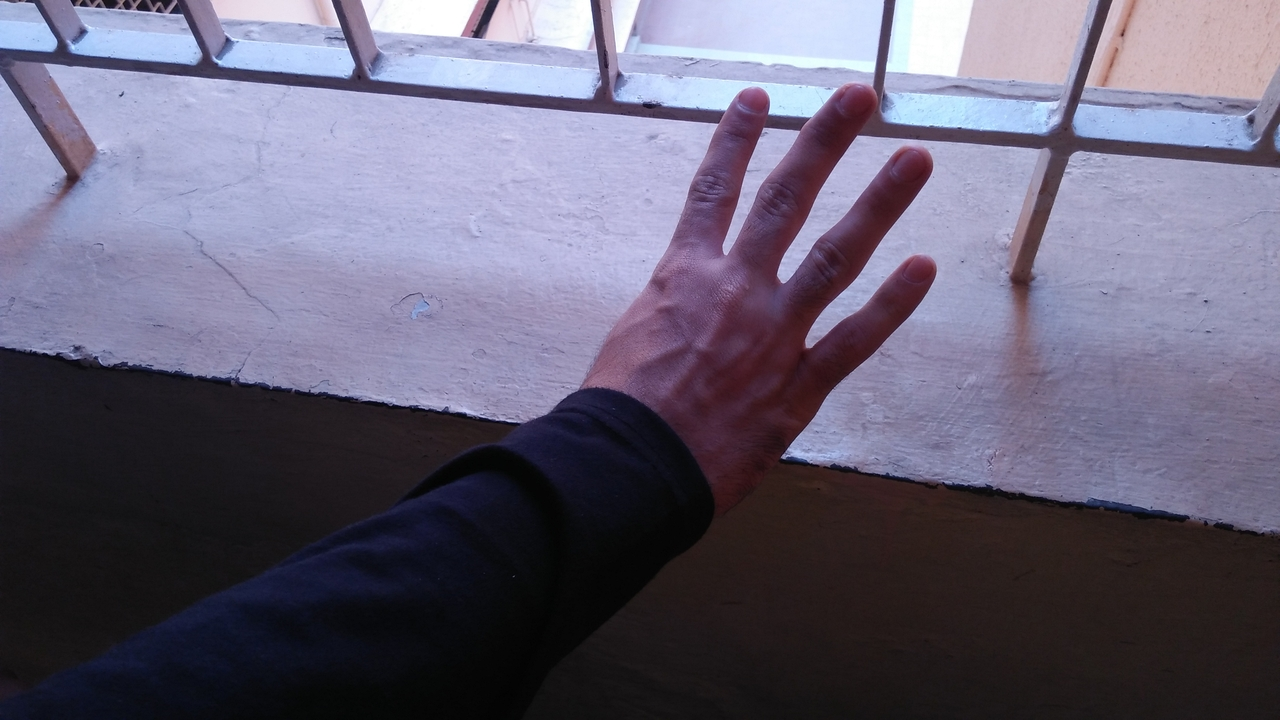fingertip: (876, 134, 942, 190), (820, 74, 884, 124), (890, 246, 948, 294), (724, 74, 774, 124)
